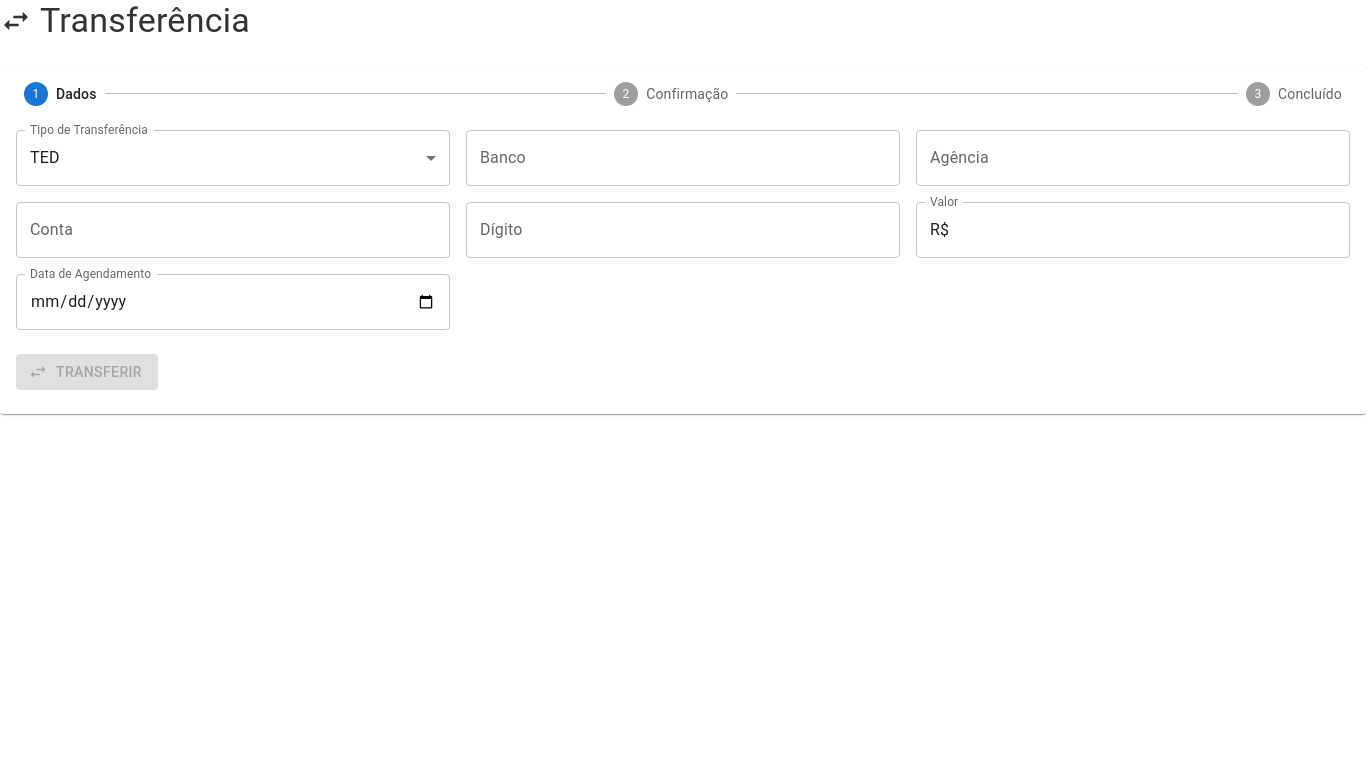
Scenario: renderiza dialogo de confirmacao ao clicar em Transferir
Step 1. Type "1500" into the number field labelled "Valor" → coordinates (1154, 230), box [957,202,1350,258]
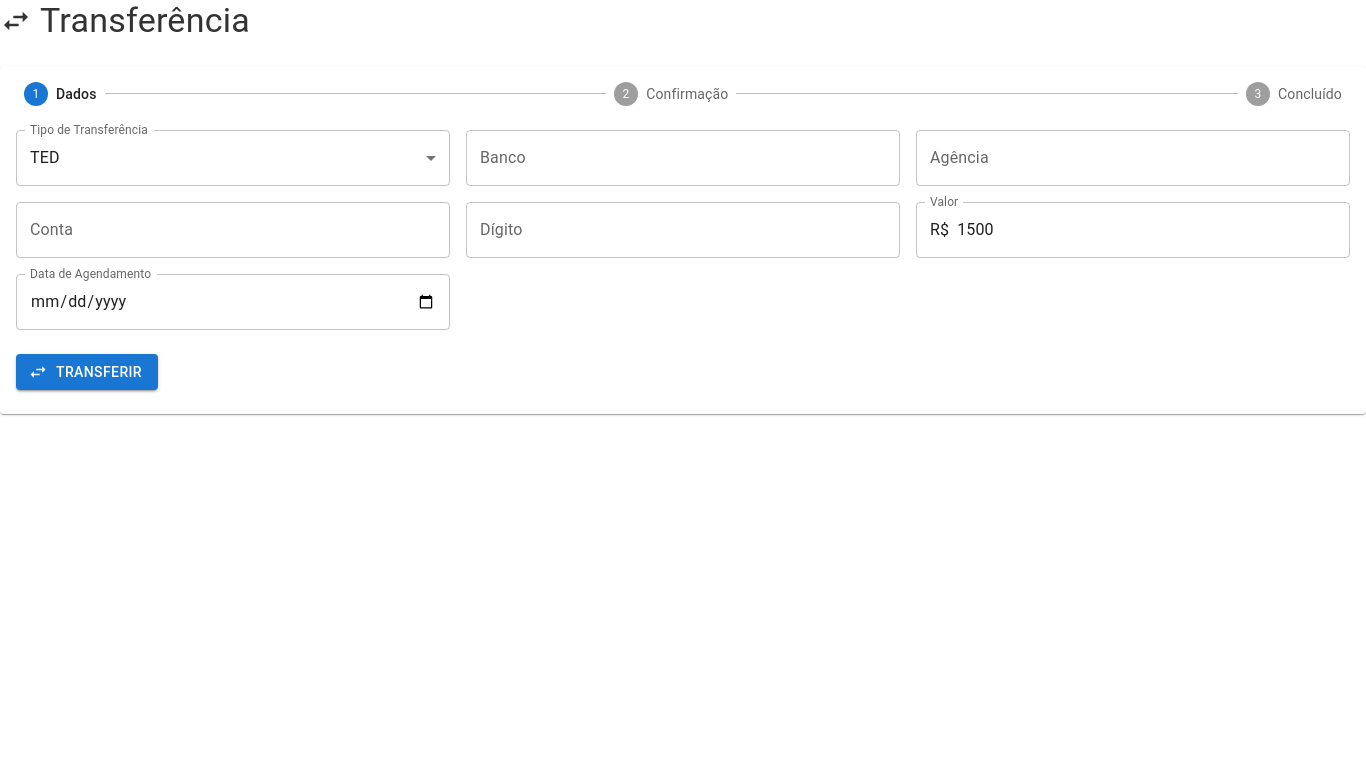
Step 2. Click the button "Transferir" → coordinates (87, 372), box [16,354,158,390]
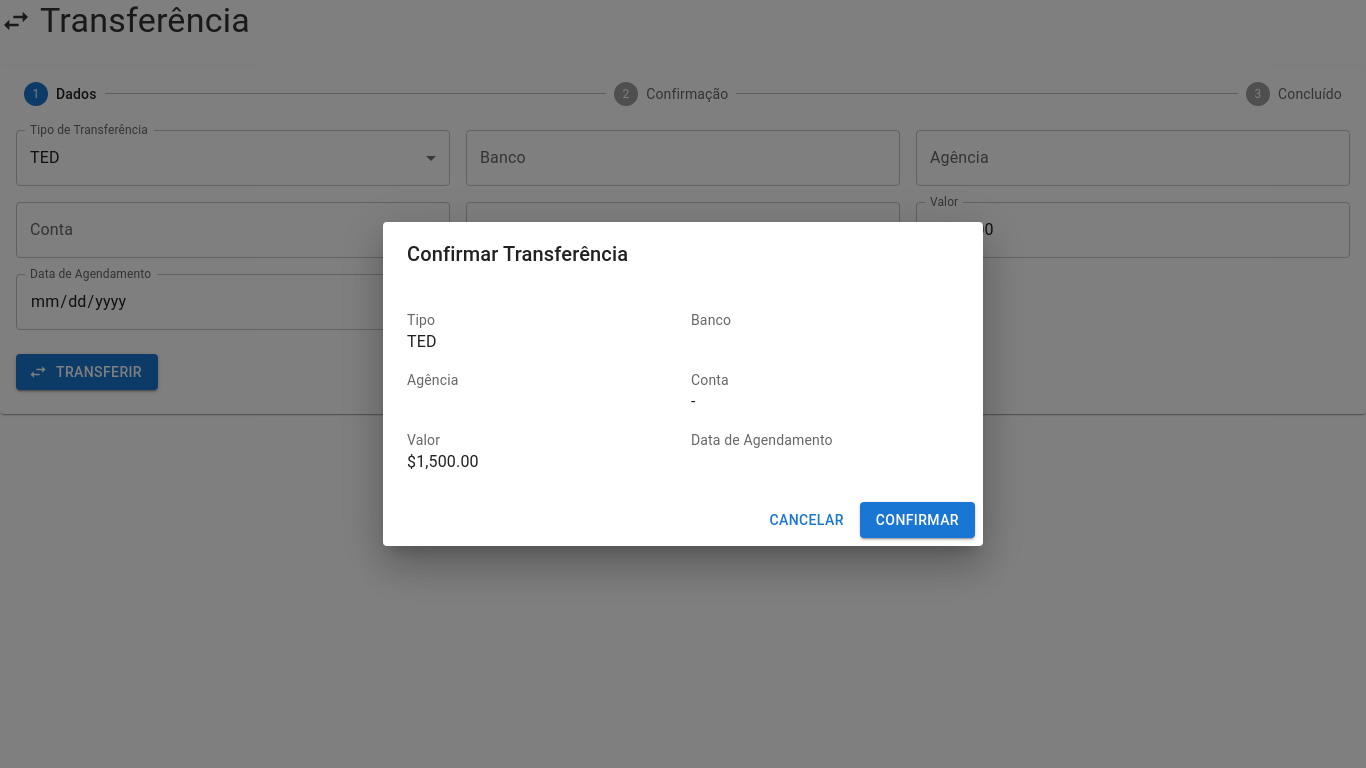
expect the heading "Confirmar Transferência" is shown: met, box [407,242,628,266]
